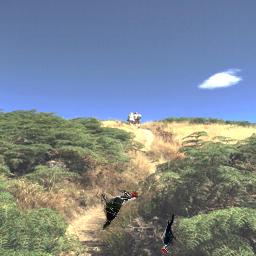Woodpecker: (101, 190, 138, 230), (161, 214, 177, 254)
